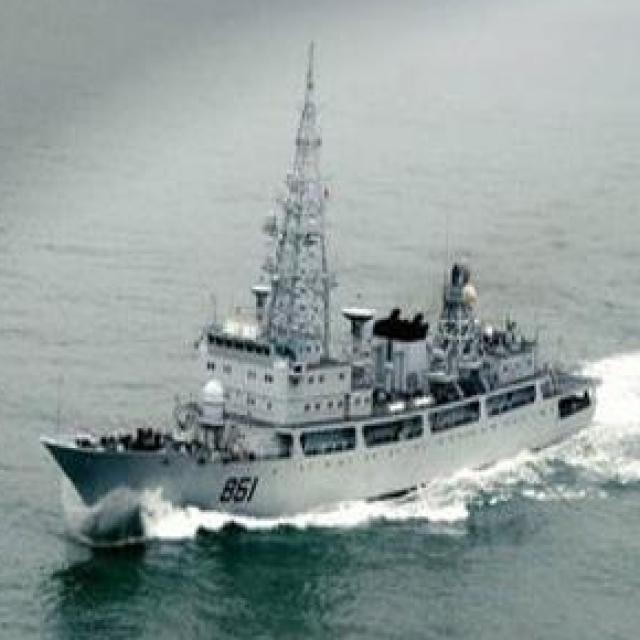navalvessels: (37, 44, 597, 520)
